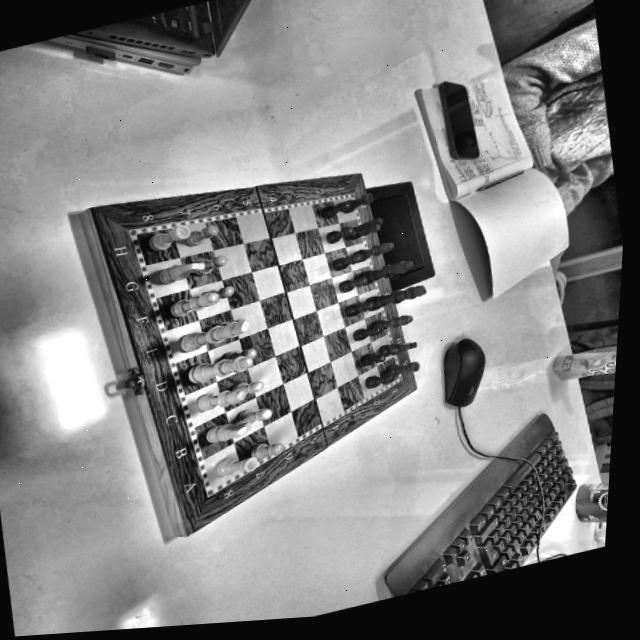black-bishop: (349, 240, 397, 265), (369, 312, 414, 335)
black-king: (362, 282, 428, 314)
black-knight: (343, 214, 386, 243), (376, 337, 418, 359)
black-pawn: (328, 250, 364, 275), (318, 199, 351, 221), (324, 223, 355, 246), (336, 274, 369, 295), (350, 323, 383, 343), (343, 299, 377, 318), (357, 348, 386, 370), (362, 371, 395, 390)
black-queen: (356, 258, 416, 288)
black-rook: (339, 191, 376, 216), (382, 358, 421, 380)
white-bishop: (166, 289, 220, 319), (195, 385, 248, 415)
white-king: (175, 316, 250, 357)
white-knight: (155, 255, 207, 288), (200, 418, 251, 449)
white-pawn: (191, 251, 230, 279), (235, 403, 274, 428), (182, 223, 219, 249), (247, 438, 285, 463), (228, 376, 263, 399), (220, 345, 255, 368), (199, 283, 234, 306)
white-queen: (184, 351, 256, 388)
white-rook: (143, 221, 193, 257), (210, 451, 258, 482)
